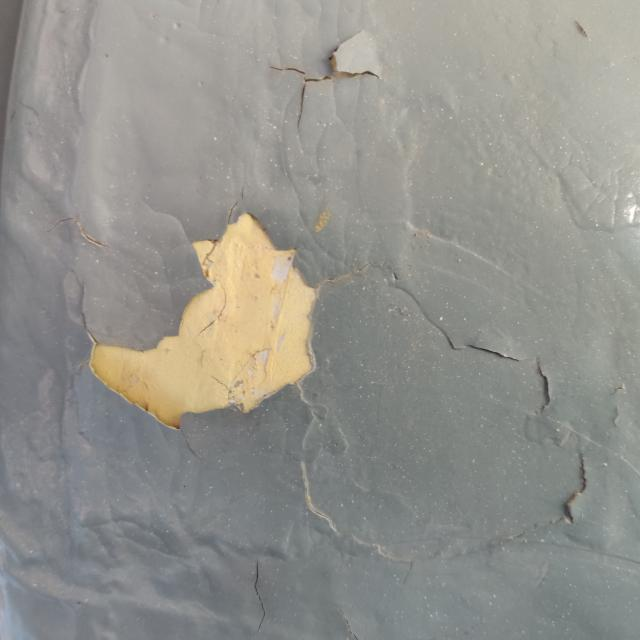paint-off: (51, 181, 339, 463), (258, 19, 401, 141)
